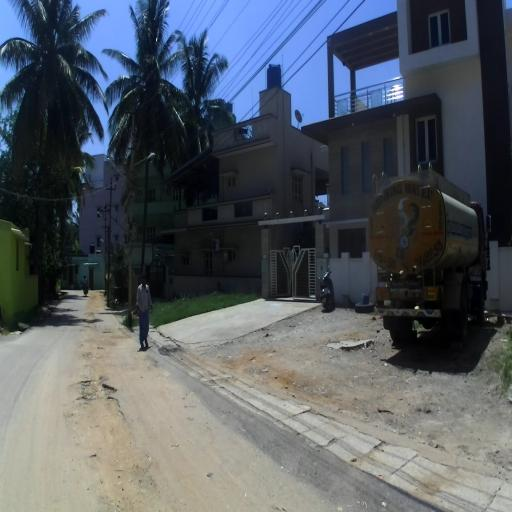street_light_0: (106, 158, 134, 205), (129, 152, 155, 182), (98, 211, 111, 237), (100, 238, 106, 246)
